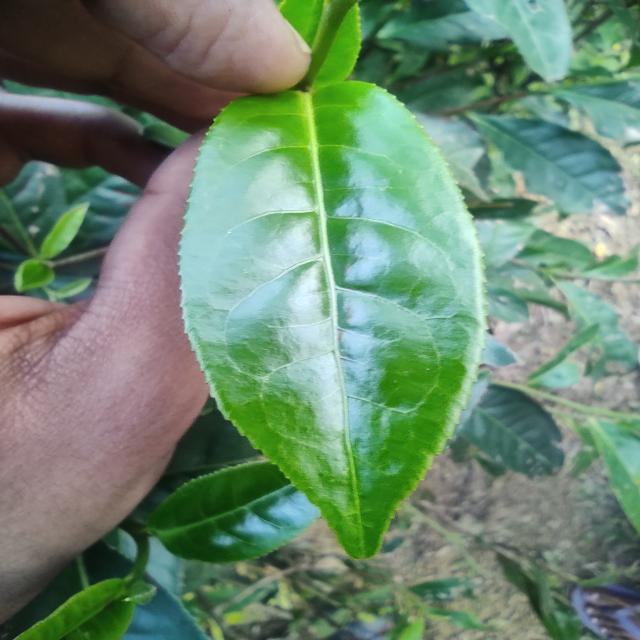Category C(4-7 days): (160, 45, 502, 582)
